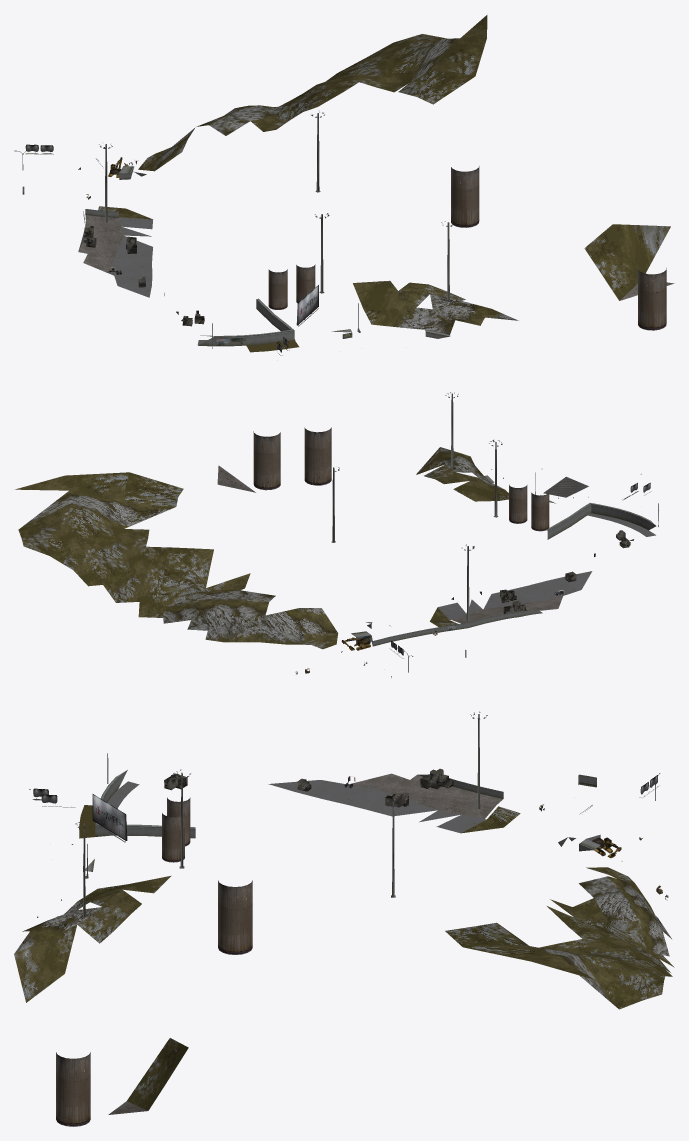
The model's file is world_camden_9_-6.gltf.
3 views of the same model, one above another, from view 1: azimuth 30°, elevation 25°; view 2: azimuth 150°, elevation 25°; view 3: azimuth 270°, elevation 25° (orthographic). The views are drawn at different scales.
Bounding box in the file's own units: 277 × 87.52 × 264.
Materials: 32 (32 with a texture image).
